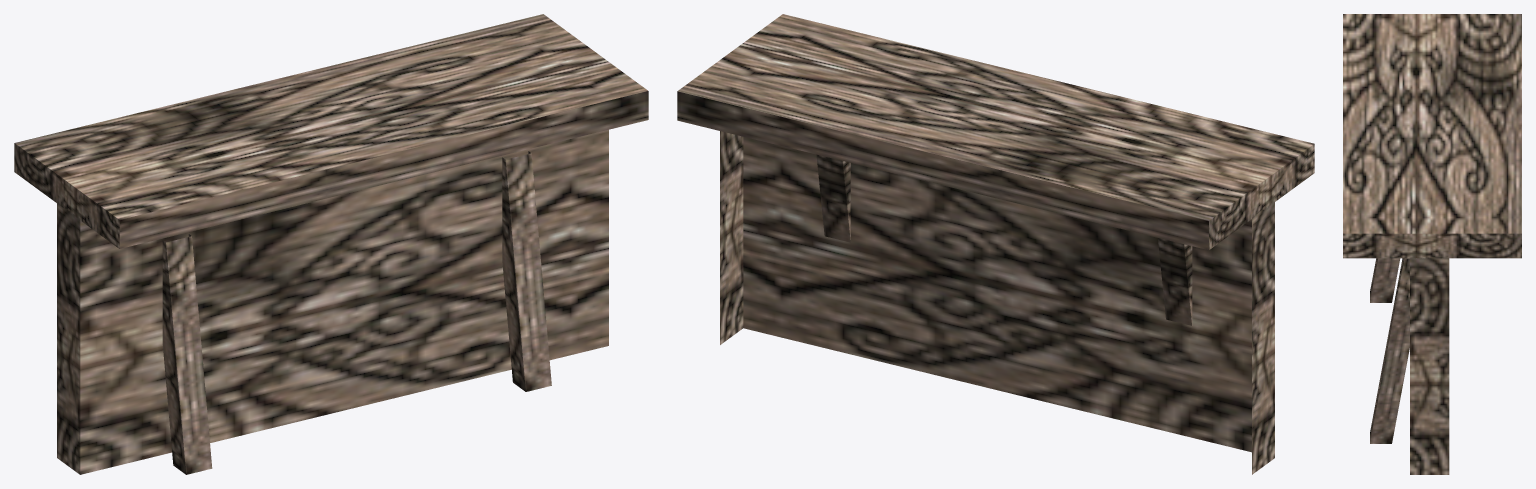
Rendered from Furniture05.obj.
The picture shows the model from 3 angles, left to right: view 1: azimuth 30°, elevation 25°; view 2: azimuth 150°, elevation 25°; view 3: azimuth 270°, elevation 25°; orthographic projection. The views are drawn at different scales.
Parts seen in each view (by area): view 1: Mesh_0; view 2: Mesh_0; view 3: Mesh_0.
Part boxes in pixels (left/top/right/bottom): Mesh_0: left=14, top=14, right=648, bottom=474; Mesh_0: left=677, top=14, right=1314, bottom=474; Mesh_0: left=1343, top=14, right=1521, bottom=474.
Size of the model in its own units: 2.03 by 1.05 by 0.6999.
Materials: 1 (1 with a texture image).
